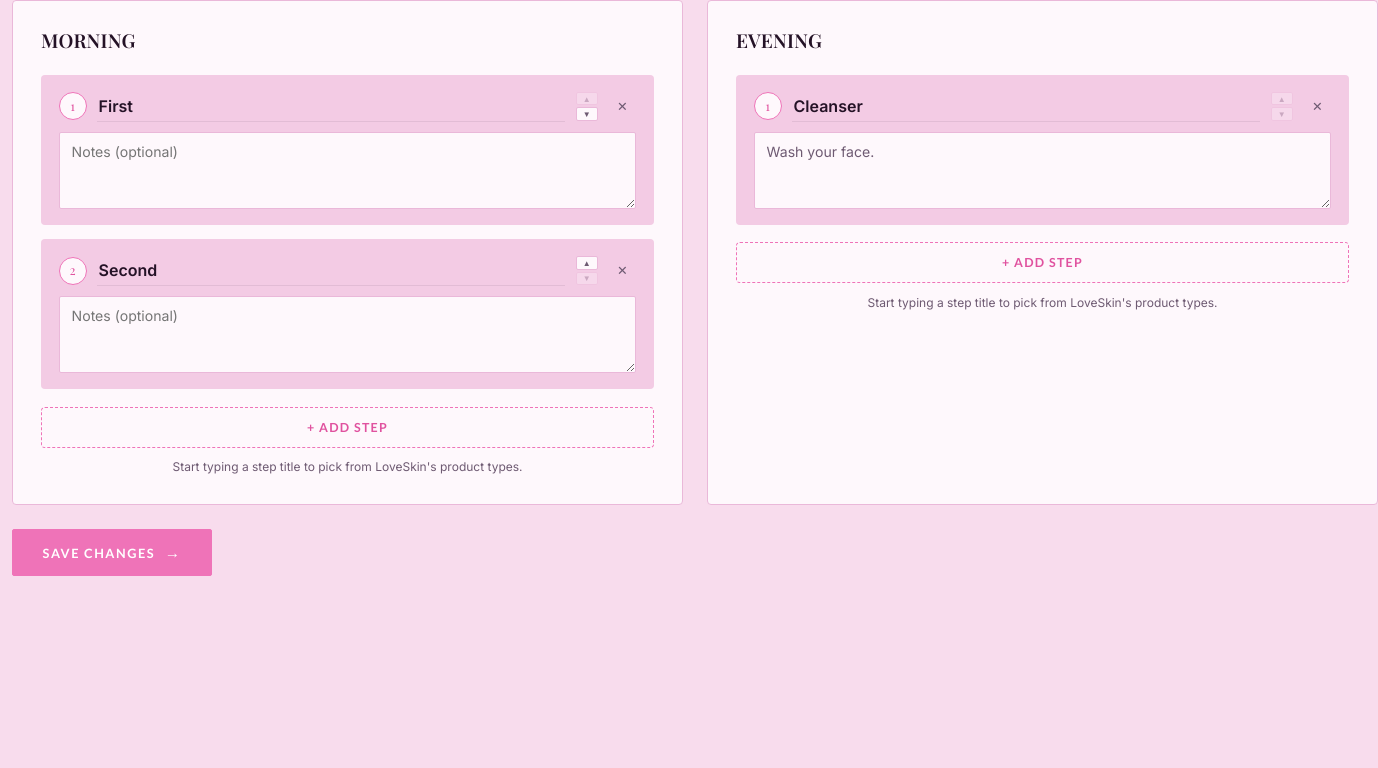
RoutineEditor › moves a step down and disables the boundary move buttons
Check: the button named "Move morning step 1 up" is disabled, box [576, 92, 598, 105]
Check: the button named "Move morning step 2 down" is disabled, box [576, 272, 598, 285]
Click the button named "Move morning step 1 down" at coordinates (587, 114), box [576, 107, 598, 121]
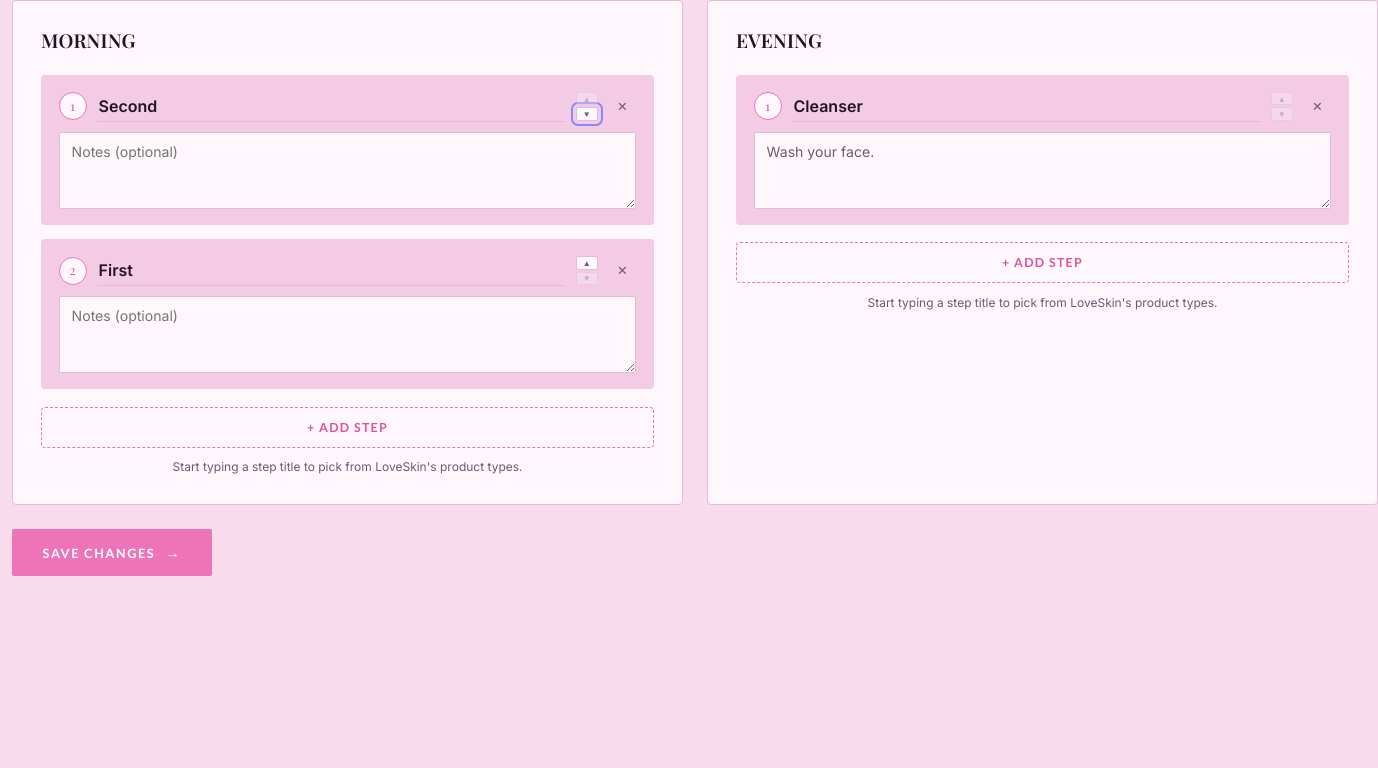
Check: the field named "Morning step 1 title" holds "Second", box [97, 91, 565, 122]
Check: the field named "Morning step 2 title" holds "First", box [97, 255, 565, 286]
